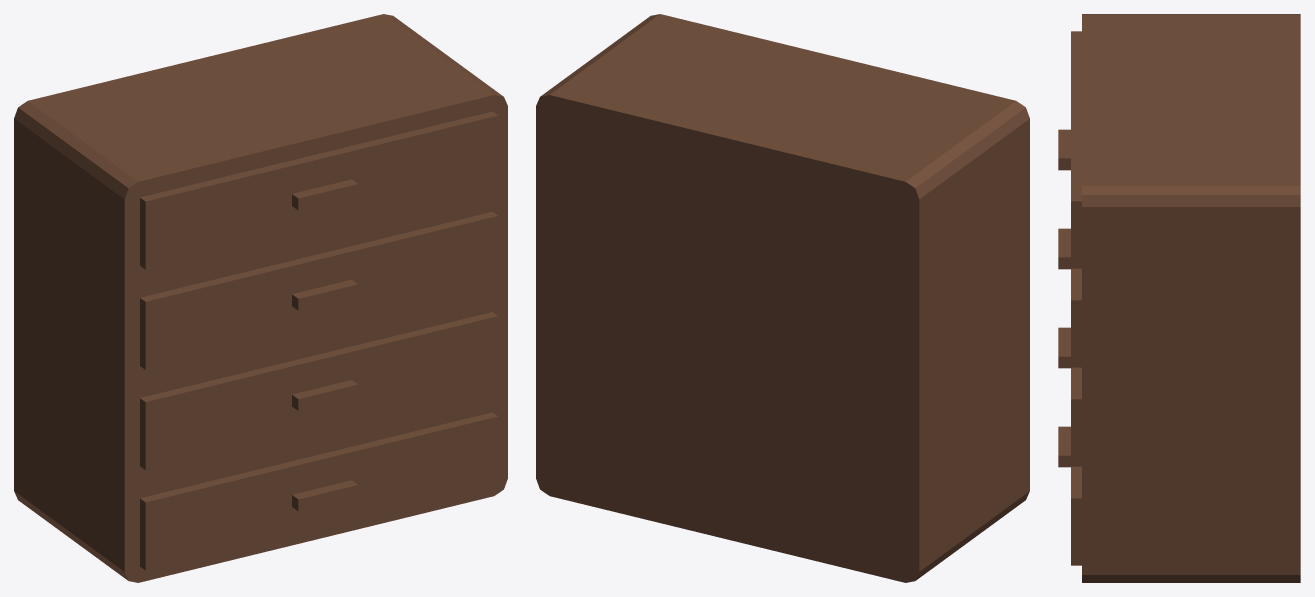
File: Timmy's Dresser.fbx
3 views of the same model, side by side, from view 1: azimuth 30°, elevation 25°; view 2: azimuth 150°, elevation 25°; view 3: azimuth 270°, elevation 25° (orthographic).
Visible parts, largest first — view 1: Cube; view 2: Cube; view 3: Cube.
Boxes of the visible parts, box(x1,y1,x2,y2) form: Cube: box(14, 14, 507, 582); Cube: box(536, 14, 1029, 582); Cube: box(1058, 14, 1300, 582).
Size of the model in its own units: 3 by 3 by 1.66.
